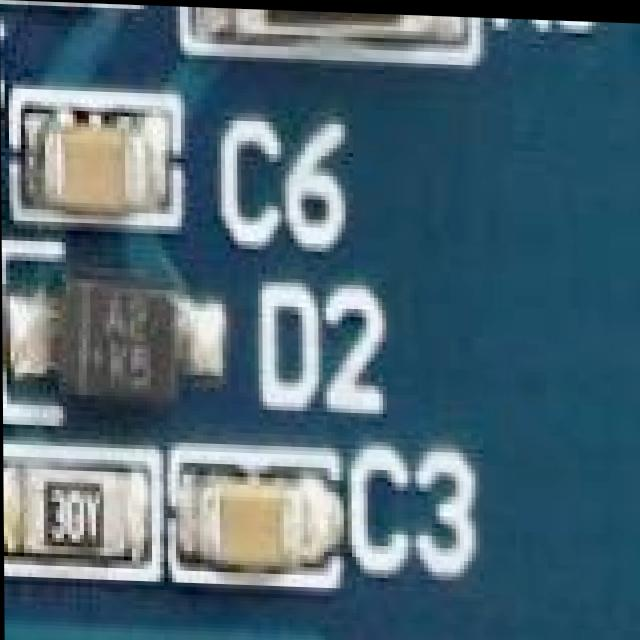capacitor: (183, 481, 333, 598), (21, 105, 165, 209)
diode: (46, 265, 180, 425)
resistor: (212, 6, 456, 49), (27, 473, 135, 570), (12, 0, 124, 8)
